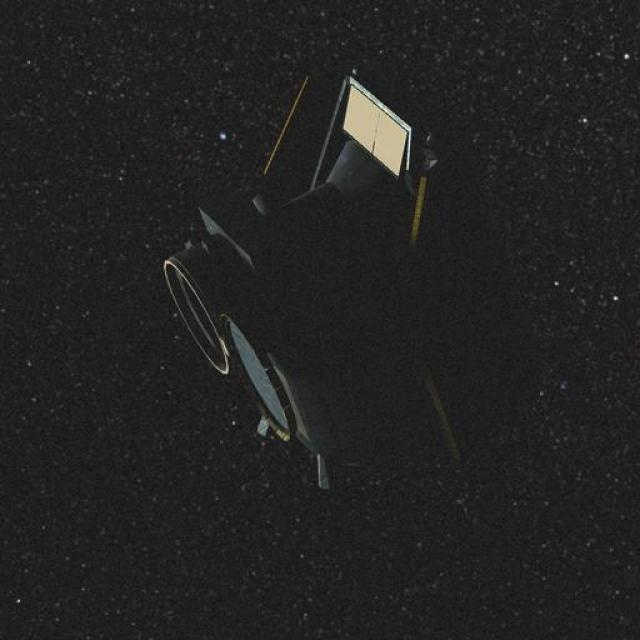cheops: (160, 50, 574, 464)
